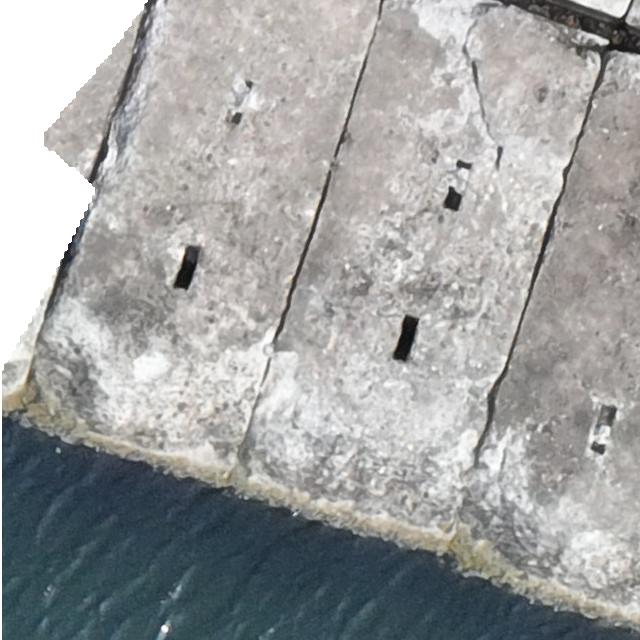umineko: (156, 625, 169, 640)
